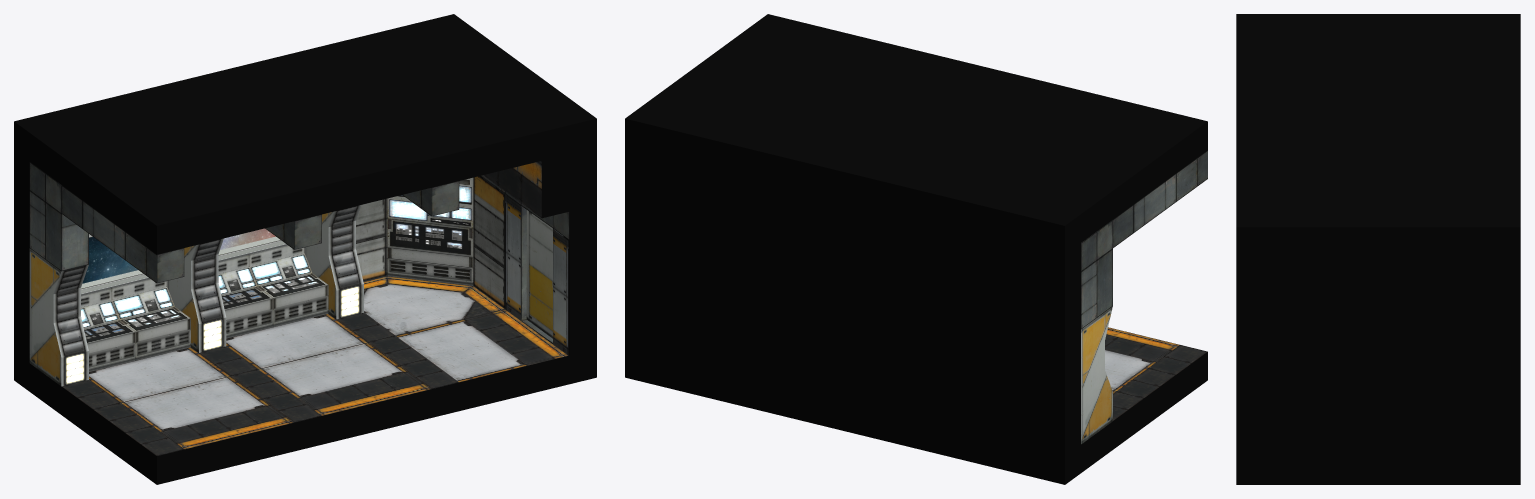
3 views of the same model, side by side, from view 1: azimuth 30°, elevation 25°; view 2: azimuth 150°, elevation 25°; view 3: azimuth 270°, elevation 25° (orthographic).
Parts seen in each view (by area): view 1: black-material, Material_002-material, Material_018-material, Material_007-material, Material_014-material, Material_028-material, Material_005-material, Material_017-material, Material_009-material, Material_001-material, Material_011-material, Material_003-material (+4 smaller); view 2: black-material, Material_018-material, Material_002-material, Material_017-material; view 3: black-material.
Boxes of the visible parts, <box> form: black-material: <box>14,14,596,484</box>; Material_002-material: <box>62,168,568,455</box>; Material_018-material: <box>29,162,459,283</box>; Material_007-material: <box>81,244,328,360</box>; Material_014-material: <box>53,205,363,386</box>; Material_028-material: <box>386,177,473,285</box>; Material_005-material: <box>356,176,505,308</box>; Material_017-material: <box>29,211,336,385</box>; Material_009-material: <box>84,285,328,371</box>; Material_001-material: <box>363,276,504,335</box>; Material_011-material: <box>81,210,553,338</box>; Material_003-material: <box>505,194,568,355</box>; black-material: <box>625,14,1207,484</box>; Material_018-material: <box>1081,150,1207,329</box>; Material_002-material: <box>1105,327,1207,420</box>; Material_017-material: <box>1081,306,1112,444</box>; black-material: <box>1236,14,1520,484</box>.
Bounding box in the file's own units: 64.03 × 36 × 36.
22 materials, 21 textured.
